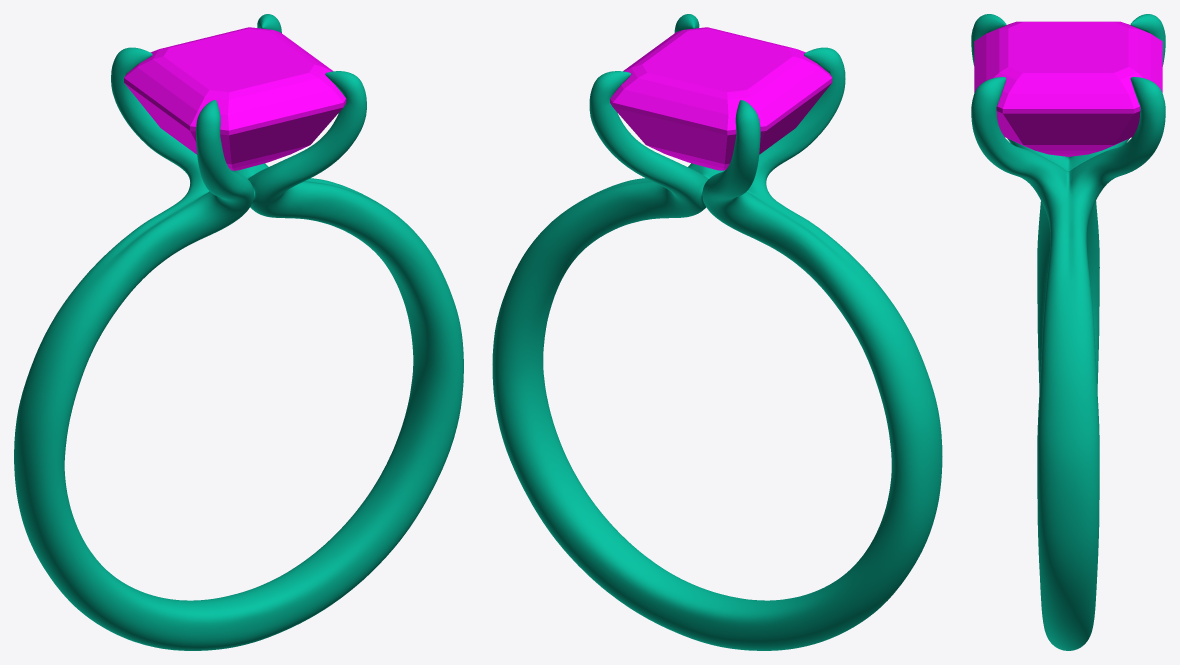
The model's file is BE1353_AS_200ct_RENDER.glb.
3 renders of one model, left to right at view 1: azimuth 30°, elevation 25°; view 2: azimuth 150°, elevation 25°; view 3: azimuth 270°, elevation 25°, orthographic.
Parts seen in each view (by area): view 1: Metal 01, CS_Diamond_Asscher; view 2: Metal 01, CS_Diamond_Asscher; view 3: Metal 01, CS_Diamond_Asscher.
Part boxes in pixels (x1,y1,x2,y2): Metal 01: (14, 14, 463, 650); CS_Diamond_Asscher: (124, 27, 346, 170); Metal 01: (492, 14, 942, 650); CS_Diamond_Asscher: (610, 27, 832, 170); Metal 01: (971, 14, 1165, 650); CS_Diamond_Asscher: (974, 21, 1162, 156).
Size of the model in its own units: 20.02 by 25.52 by 7.76.
